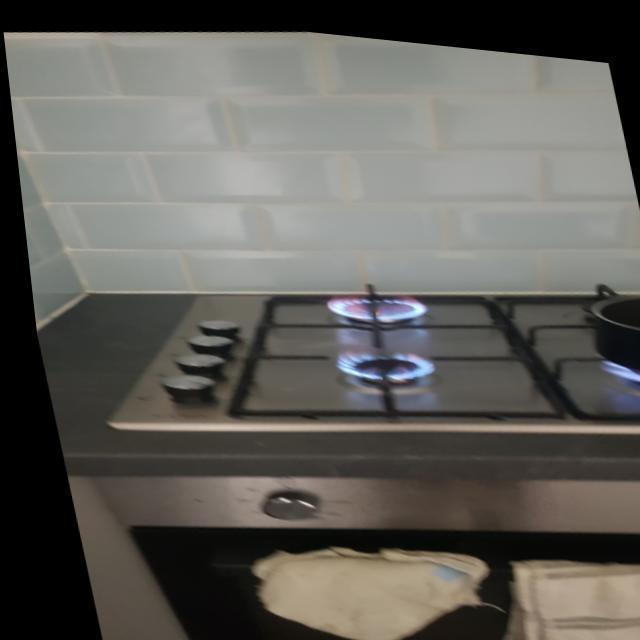Flame: (330, 348, 440, 392), (325, 294, 442, 330), (598, 356, 640, 390)
Pan: (585, 273, 640, 370)
